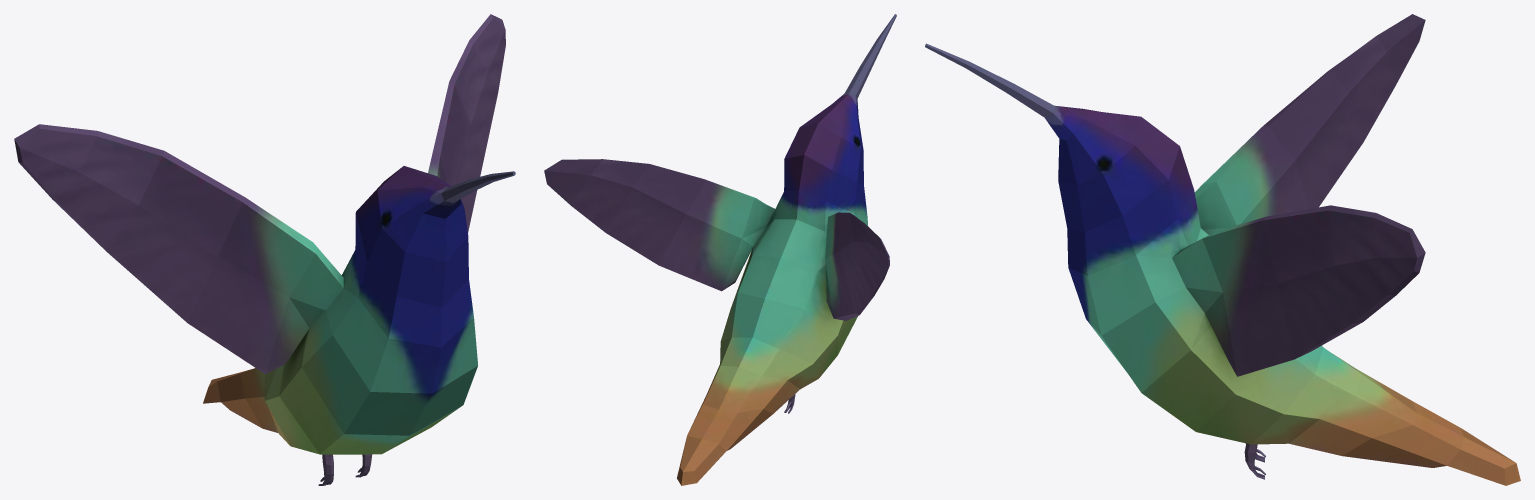
File: animals-hummingbird-130.glb
3 views of the same model, side by side, from view 1: azimuth 30°, elevation 25°; view 2: azimuth 150°, elevation 25°; view 3: azimuth 270°, elevation 25° (orthographic). The views are drawn at different scales.
Parts seen in each view (by area): view 1: Hummingbird_Mesh; view 2: Hummingbird_Mesh; view 3: Hummingbird_Mesh.
Boxes of the visible parts, x1,y1,x2,y2 form: Hummingbird_Mesh: [14, 14, 515, 485]; Hummingbird_Mesh: [544, 14, 896, 485]; Hummingbird_Mesh: [925, 14, 1520, 485].
Bounding box in the file's own units: 2.11 × 1.85 × 2.28.
1 material, 1 textured.
